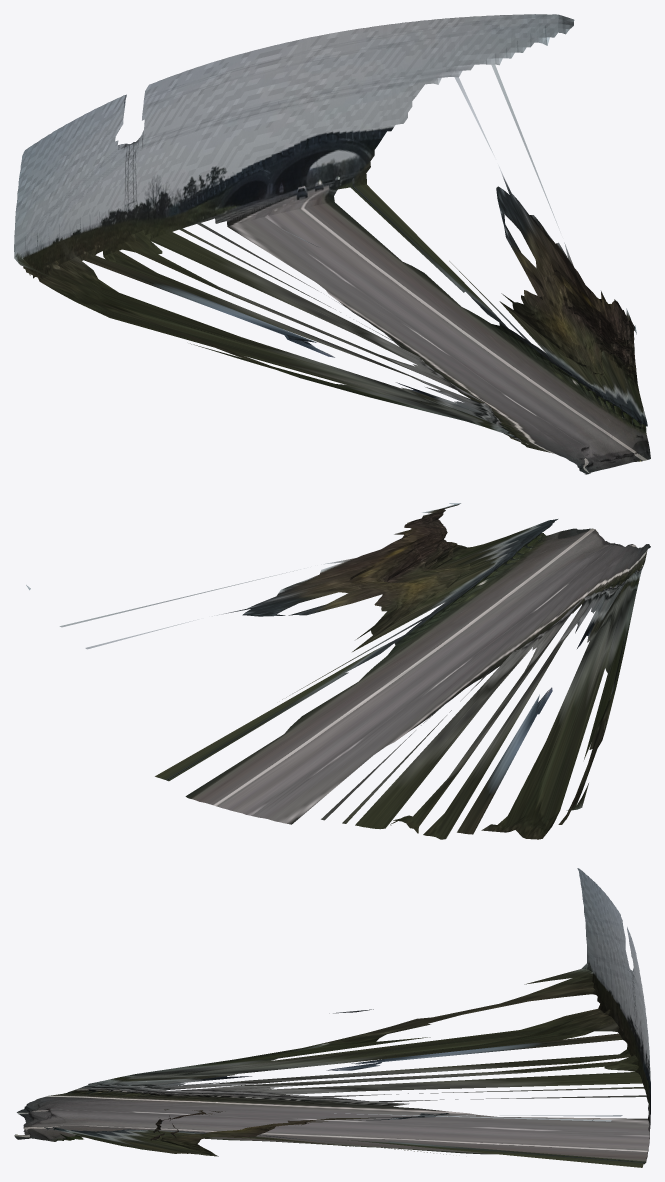
3 renders of one model, top to bottom at view 1: azimuth 30°, elevation 25°; view 2: azimuth 150°, elevation 25°; view 3: azimuth 270°, elevation 25°, orthographic. The views are drawn at different scales.
Parts seen in each view (by area): view 1: defaultobject; view 2: defaultobject; view 3: defaultobject.
Part boxes in pixels (bbox=[...]): defaultobject: bbox=[14, 14, 650, 474]; defaultobject: bbox=[26, 503, 650, 839]; defaultobject: bbox=[14, 868, 650, 1167].
Bounding box in the file's own units: 40.16 × 12.1 × 44.79.
Materials: 1 (1 with a texture image).
